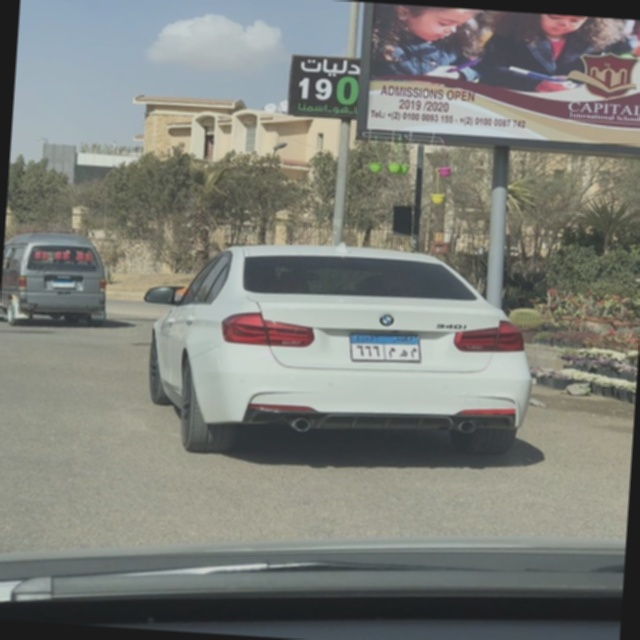License Plate: (346, 328, 424, 366)
